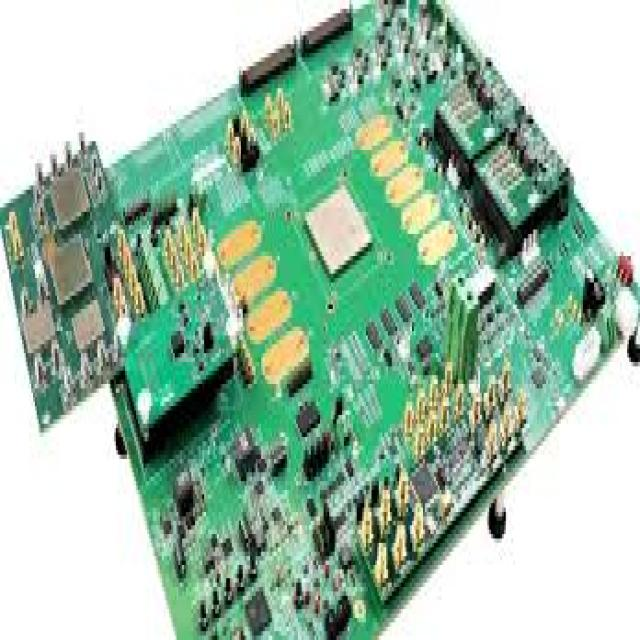pcb: (0, 0, 636, 635), (432, 58, 570, 252), (304, 177, 372, 278)
